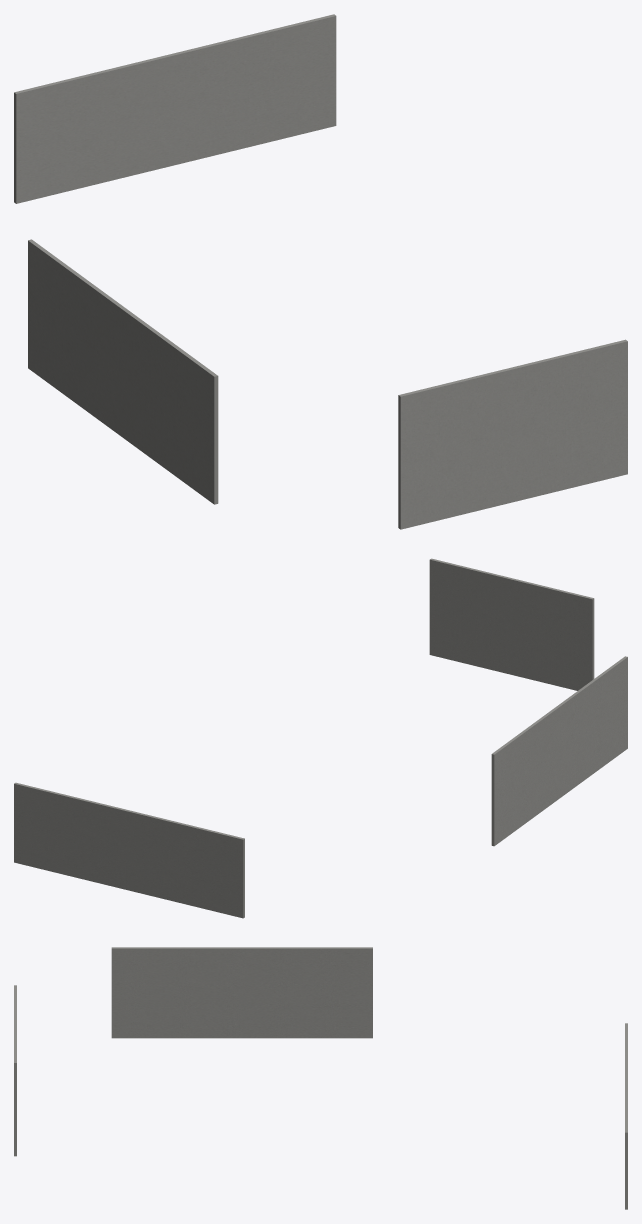
File: ventanas.obj
3 views of the same model, one above another, from view 1: azimuth 30°, elevation 25°; view 2: azimuth 150°, elevation 25°; view 3: azimuth 270°, elevation 25° (orthographic). The views are drawn at different scales.
Parts seen in each view (by area): view 1: Cube.020, Cube.017, Cube.004; view 2: Cube.020, Cube.017, Cube.004; view 3: Cube.004, Cube.020, Cube.017.
Part boxes in pixels (<box>): Cube.020: <box>14,14,336,203</box>; Cube.017: <box>398,339,627,529</box>; Cube.004: <box>28,239,218,504</box>; Cube.020: <box>14,782,244,918</box>; Cube.017: <box>429,558,594,690</box>; Cube.004: <box>491,656,627,846</box>; Cube.004: <box>111,947,372,1038</box>; Cube.020: <box>625,1023,627,1209</box>; Cube.017: <box>14,985,16,1156</box>.
Size of the model in its own units: 11.52 by 3.13 by 17.91.
1 material, 1 textured.
